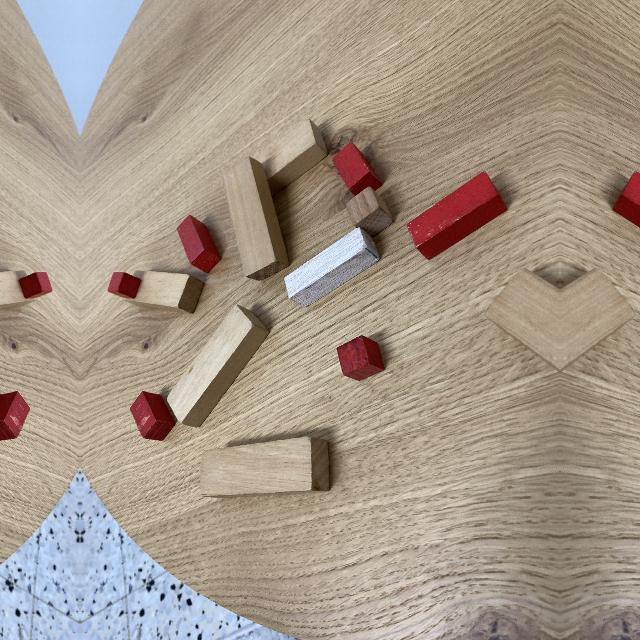block: (283, 226, 380, 308)
cube: (345, 186, 394, 241)
jenga: (165, 304, 270, 430), (221, 156, 290, 282), (482, 266, 560, 371), (560, 266, 638, 371), (198, 436, 330, 496), (251, 118, 329, 198), (108, 271, 204, 314), (0, 271, 52, 310)
red block: (405, 170, 507, 260), (331, 141, 382, 196), (176, 214, 221, 273), (613, 170, 640, 228)
red cube: (130, 391, 177, 441), (336, 334, 386, 380), (0, 391, 30, 441), (107, 272, 142, 298), (18, 272, 53, 298)
